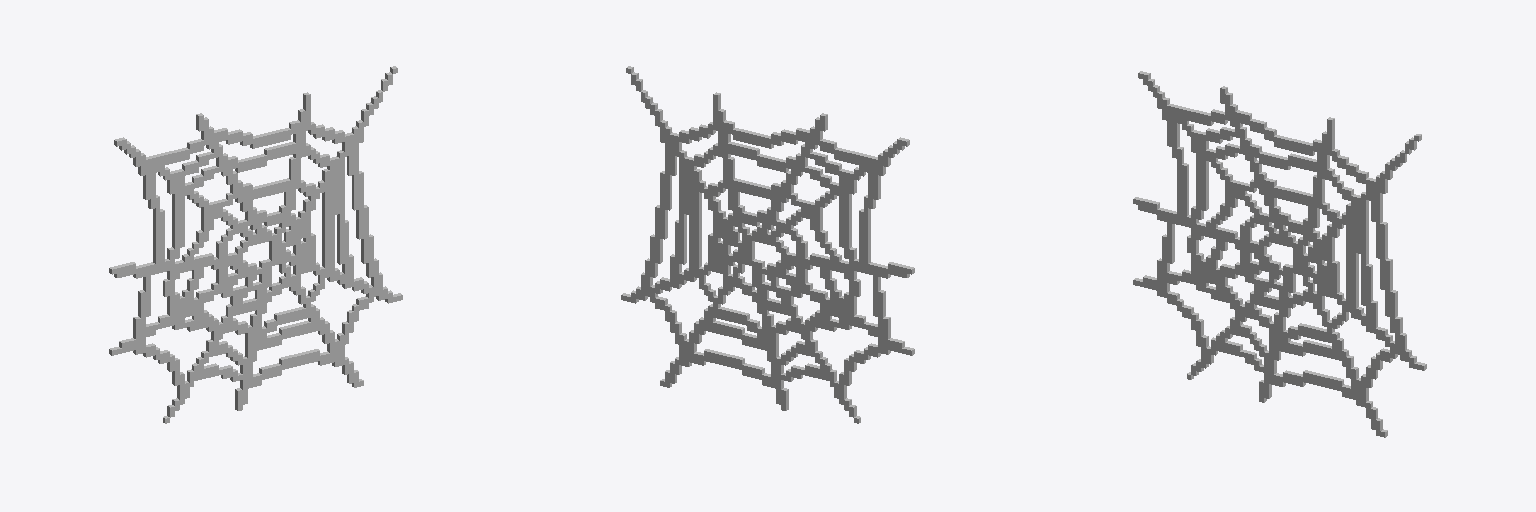
Rendered from teia-0-jessica-andrade-big-spiderweb-2-export.obj.
3 renders of one model, left to right at view 1: azimuth 30°, elevation 25°; view 2: azimuth 150°, elevation 25°; view 3: azimuth 330°, elevation 25°, orthographic.
Visible parts, largest first — view 1: jessica-andrade-big-spiderweb-2-export; view 2: jessica-andrade-big-spiderweb-2-export; view 3: jessica-andrade-big-spiderweb-2-export.
Boxes of the visible parts, box(x1,y1,x2,y2) form: jessica-andrade-big-spiderweb-2-export: box(109, 66, 402, 423); jessica-andrade-big-spiderweb-2-export: box(621, 66, 914, 423); jessica-andrade-big-spiderweb-2-export: box(1133, 71, 1426, 437).
Size of the model in its own units: 6 by 6.1 by 0.1.